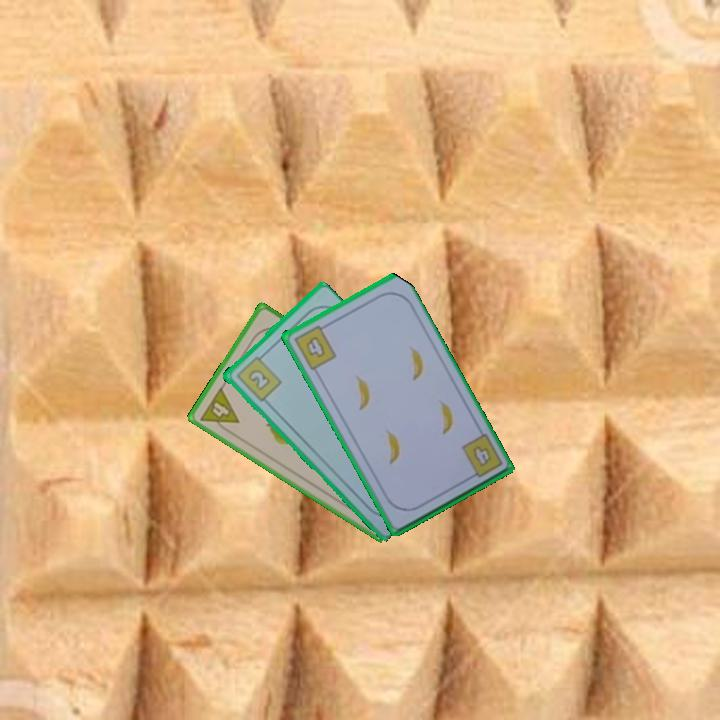2b: (232, 350, 284, 404)
4b: (290, 320, 339, 373), (469, 442, 494, 470)
4p: (196, 383, 242, 437)
